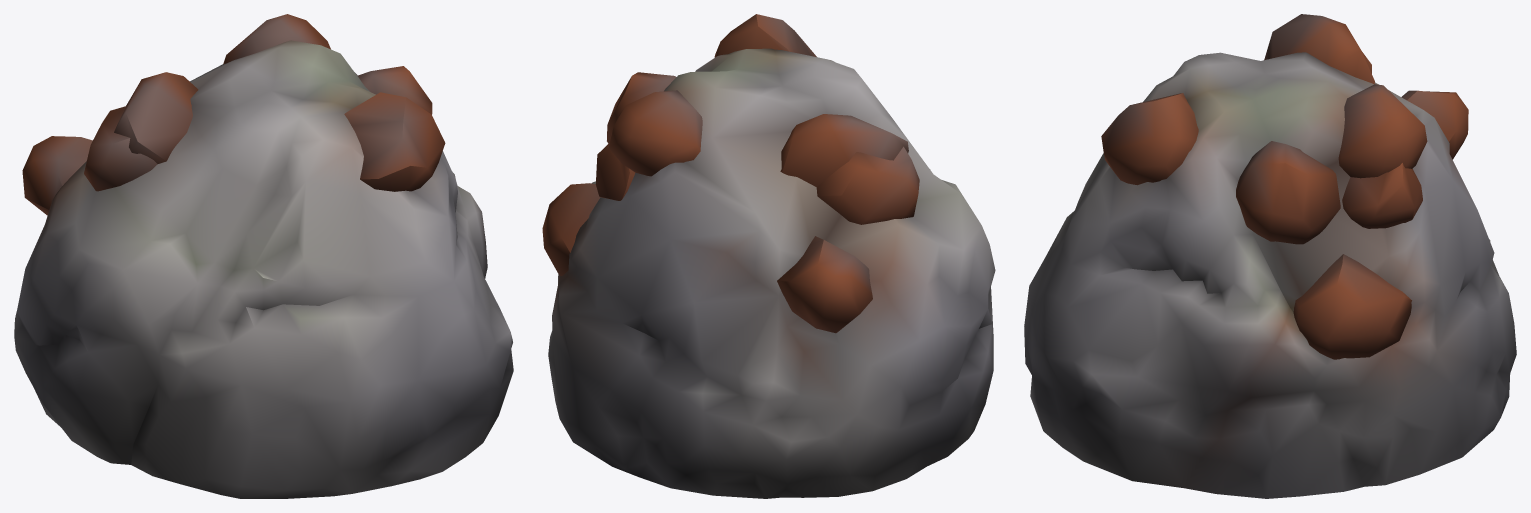
File: cave-oreIron-v1.glb
3 renders of one model, left to right at view 1: azimuth 30°, elevation 25°; view 2: azimuth 150°, elevation 25°; view 3: azimuth 270°, elevation 25°, orthographic. The views are drawn at different scales.
Visible parts, largest first — view 1: 0_vein; view 2: 0_vein; view 3: 0_vein.
Part boxes in pixels (x1,y1,x2,y2): 0_vein: (14,14,513,498); 0_vein: (542,14,995,498); 0_vein: (1024,14,1516,498).
Size of the model in its own units: 1.12 by 0.864 by 1.12.
